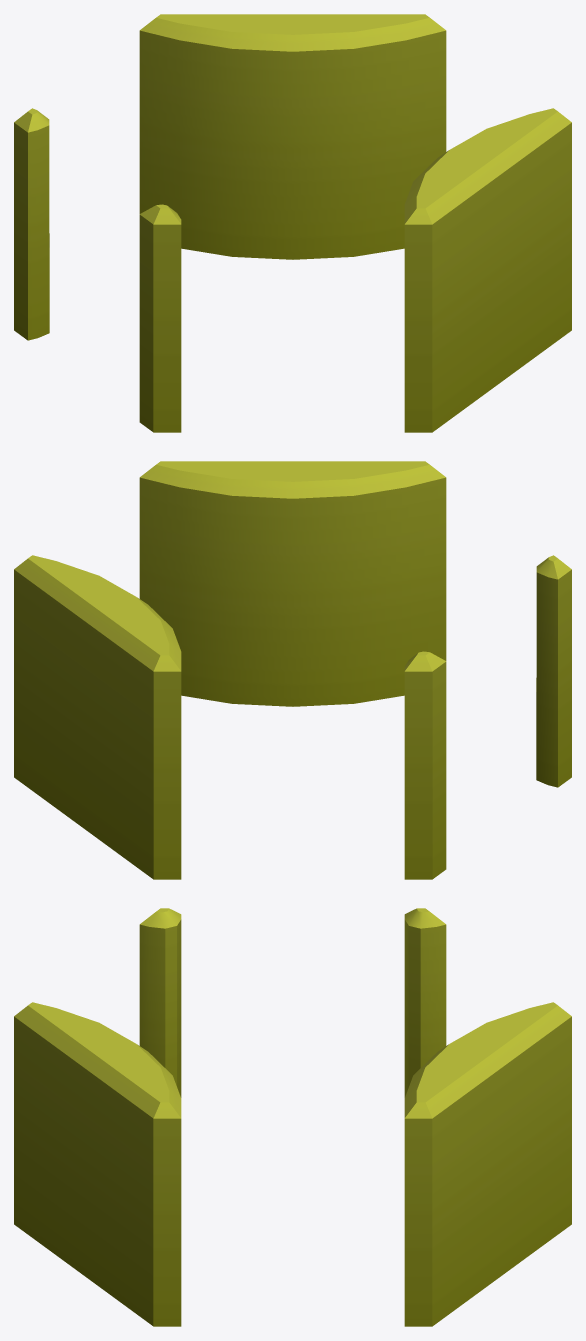
File: kaykit-medieval-hexagon-pack-hex-river-h-waterless.glb
The picture shows the model from 3 angles, top to bottom: view 1: azimuth 30°, elevation 25°; view 2: azimuth 150°, elevation 25°; view 3: azimuth 270°, elevation 25°; orthographic projection.
Visible parts, largest first — view 1: hex_river_H_waterless; view 2: hex_river_H_waterless; view 3: hex_river_H_waterless.
Part boxes in pixels (left/top/right/bottom): hex_river_H_waterless: left=14, top=14, right=571, bottom=432; hex_river_H_waterless: left=14, top=461, right=571, bottom=879; hex_river_H_waterless: left=14, top=908, right=571, bottom=1326.
Size of the model in its own units: 2 by 1 by 2.31.
Materials: 1 (1 with a texture image).
